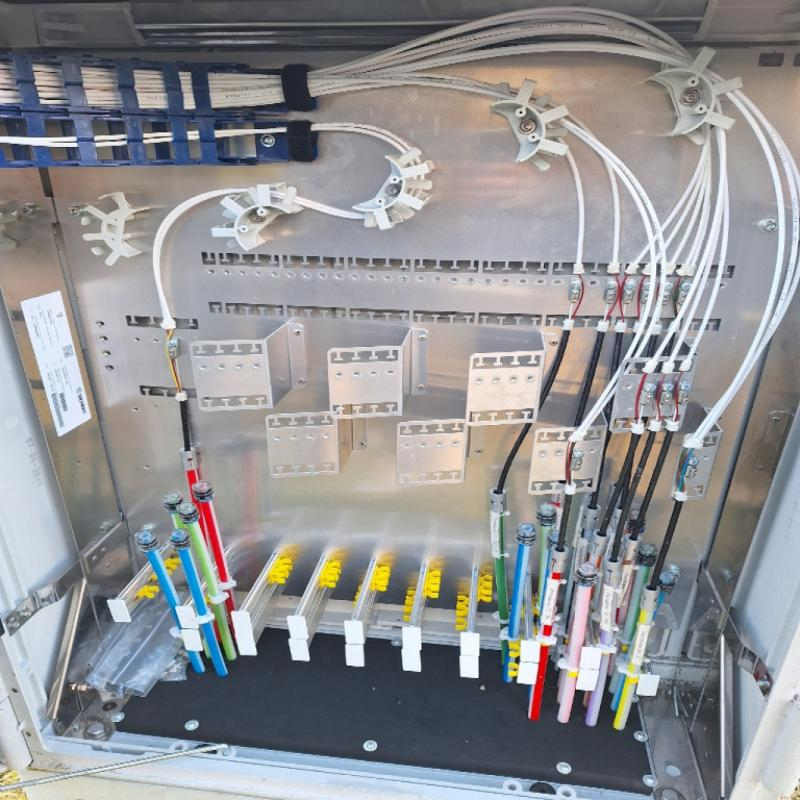NT-Gehause: (2, 2, 800, 800)
